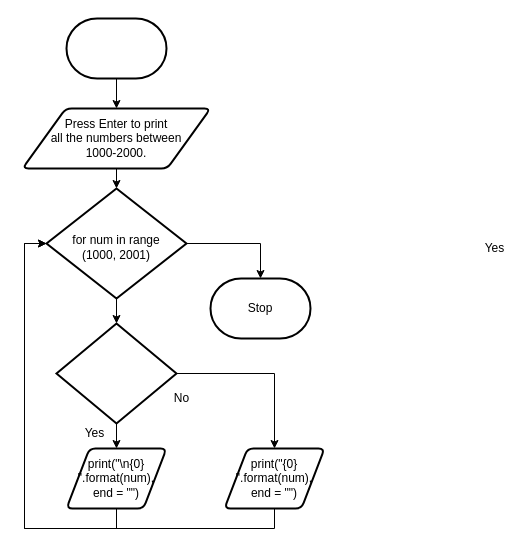
The diagram is 532 pixels wide and 554 high, and some of its shapes have lost their labels. Here are the shapes that lost their labels. From the top down, the box of each, then its label:
(65, 17, 167, 79): Start
(55, 322, 177, 424): if num % 5 == 0 and num != 1000
